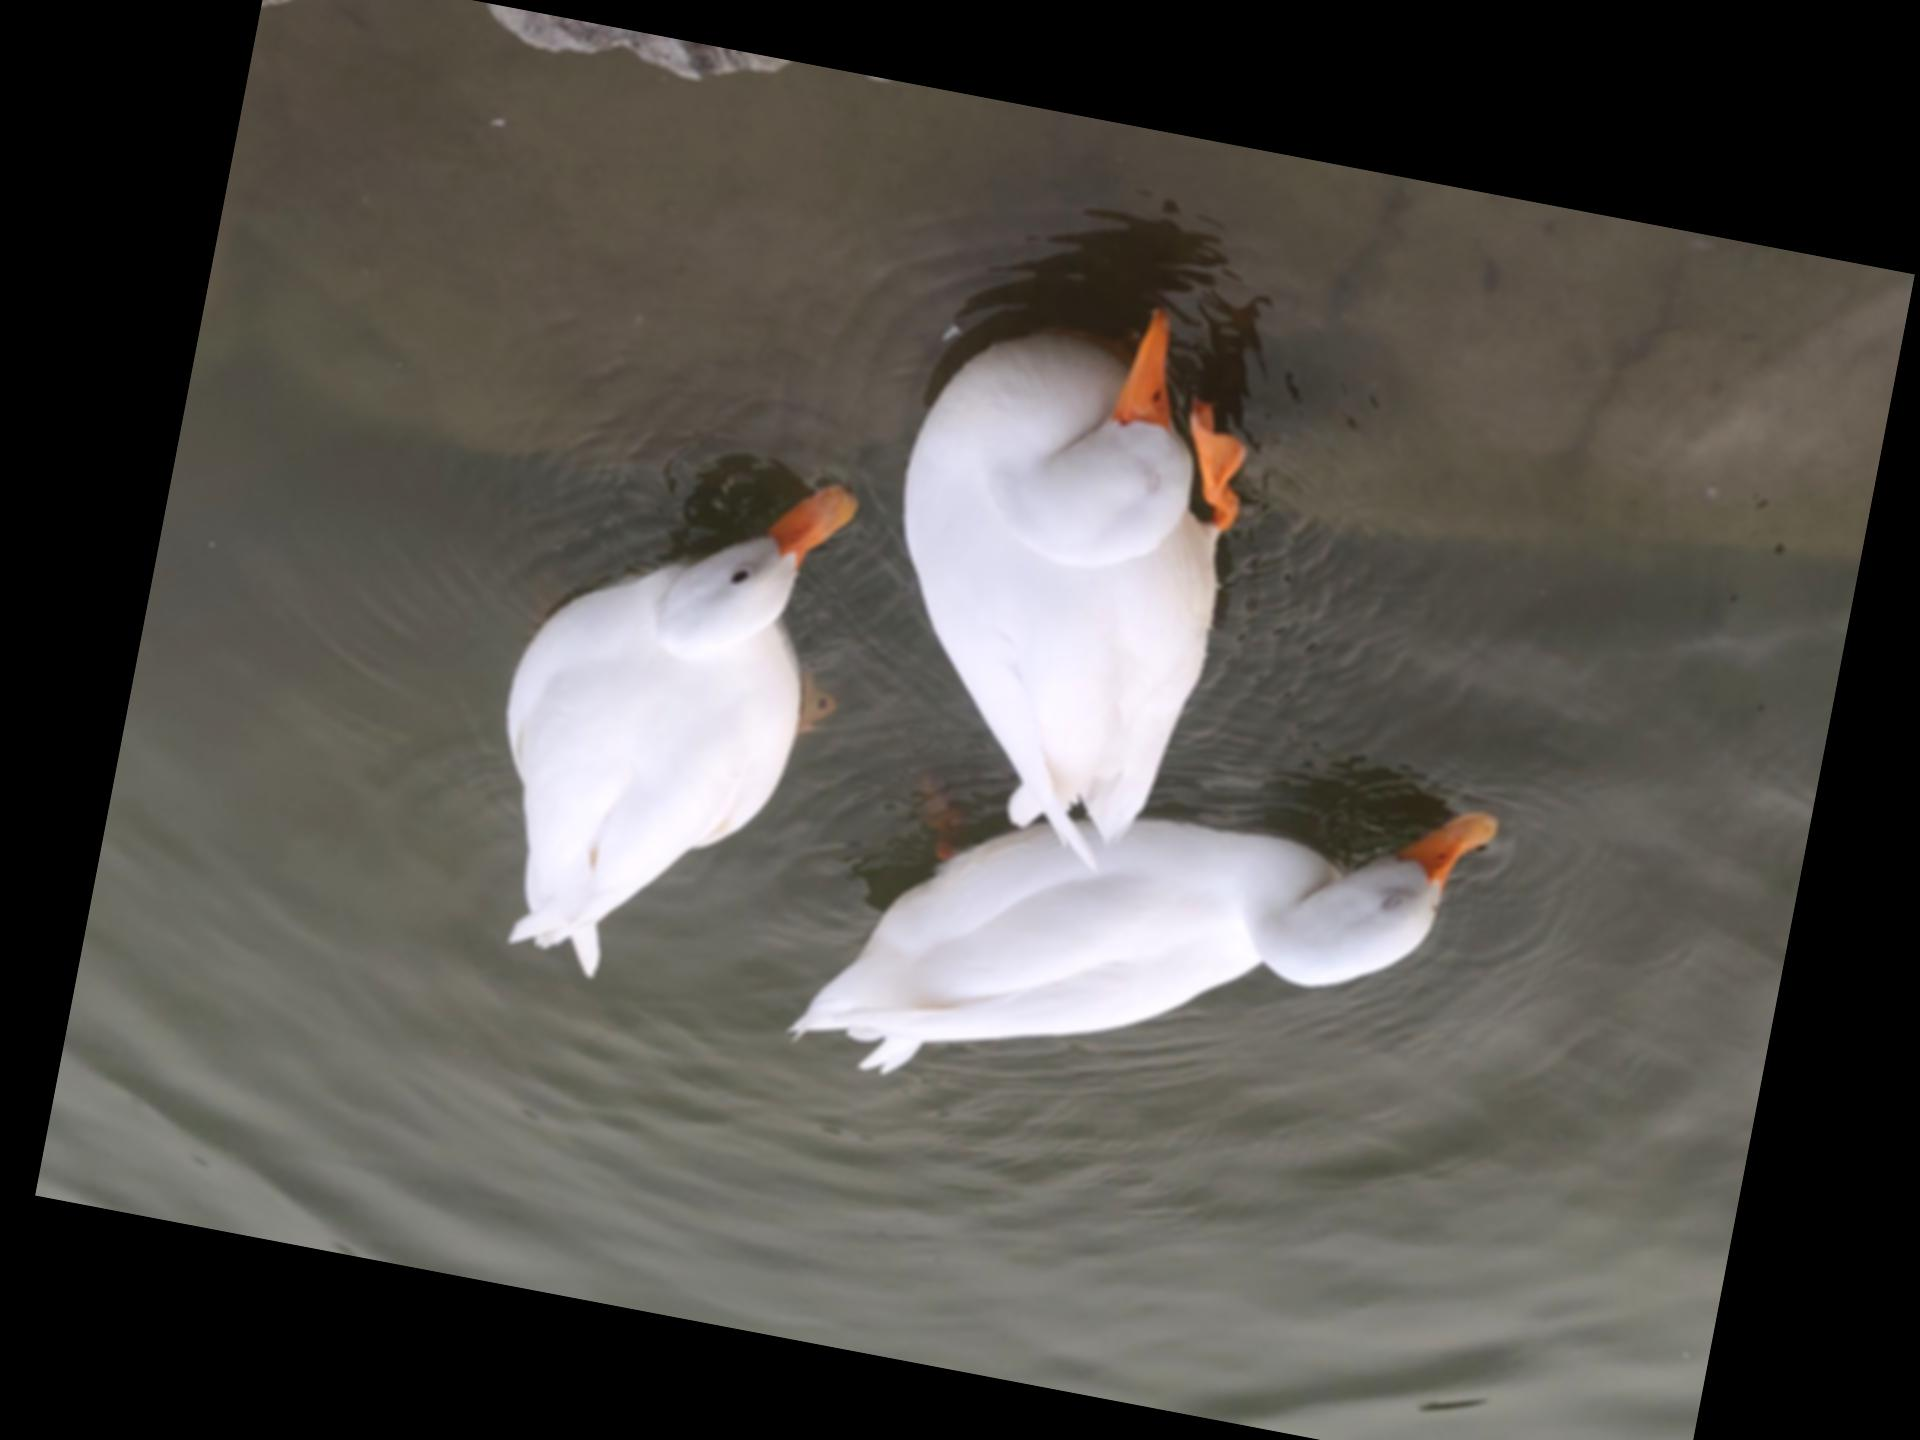duck: (754, 669, 1509, 1209), (810, 265, 1299, 911), (447, 416, 871, 1021)
